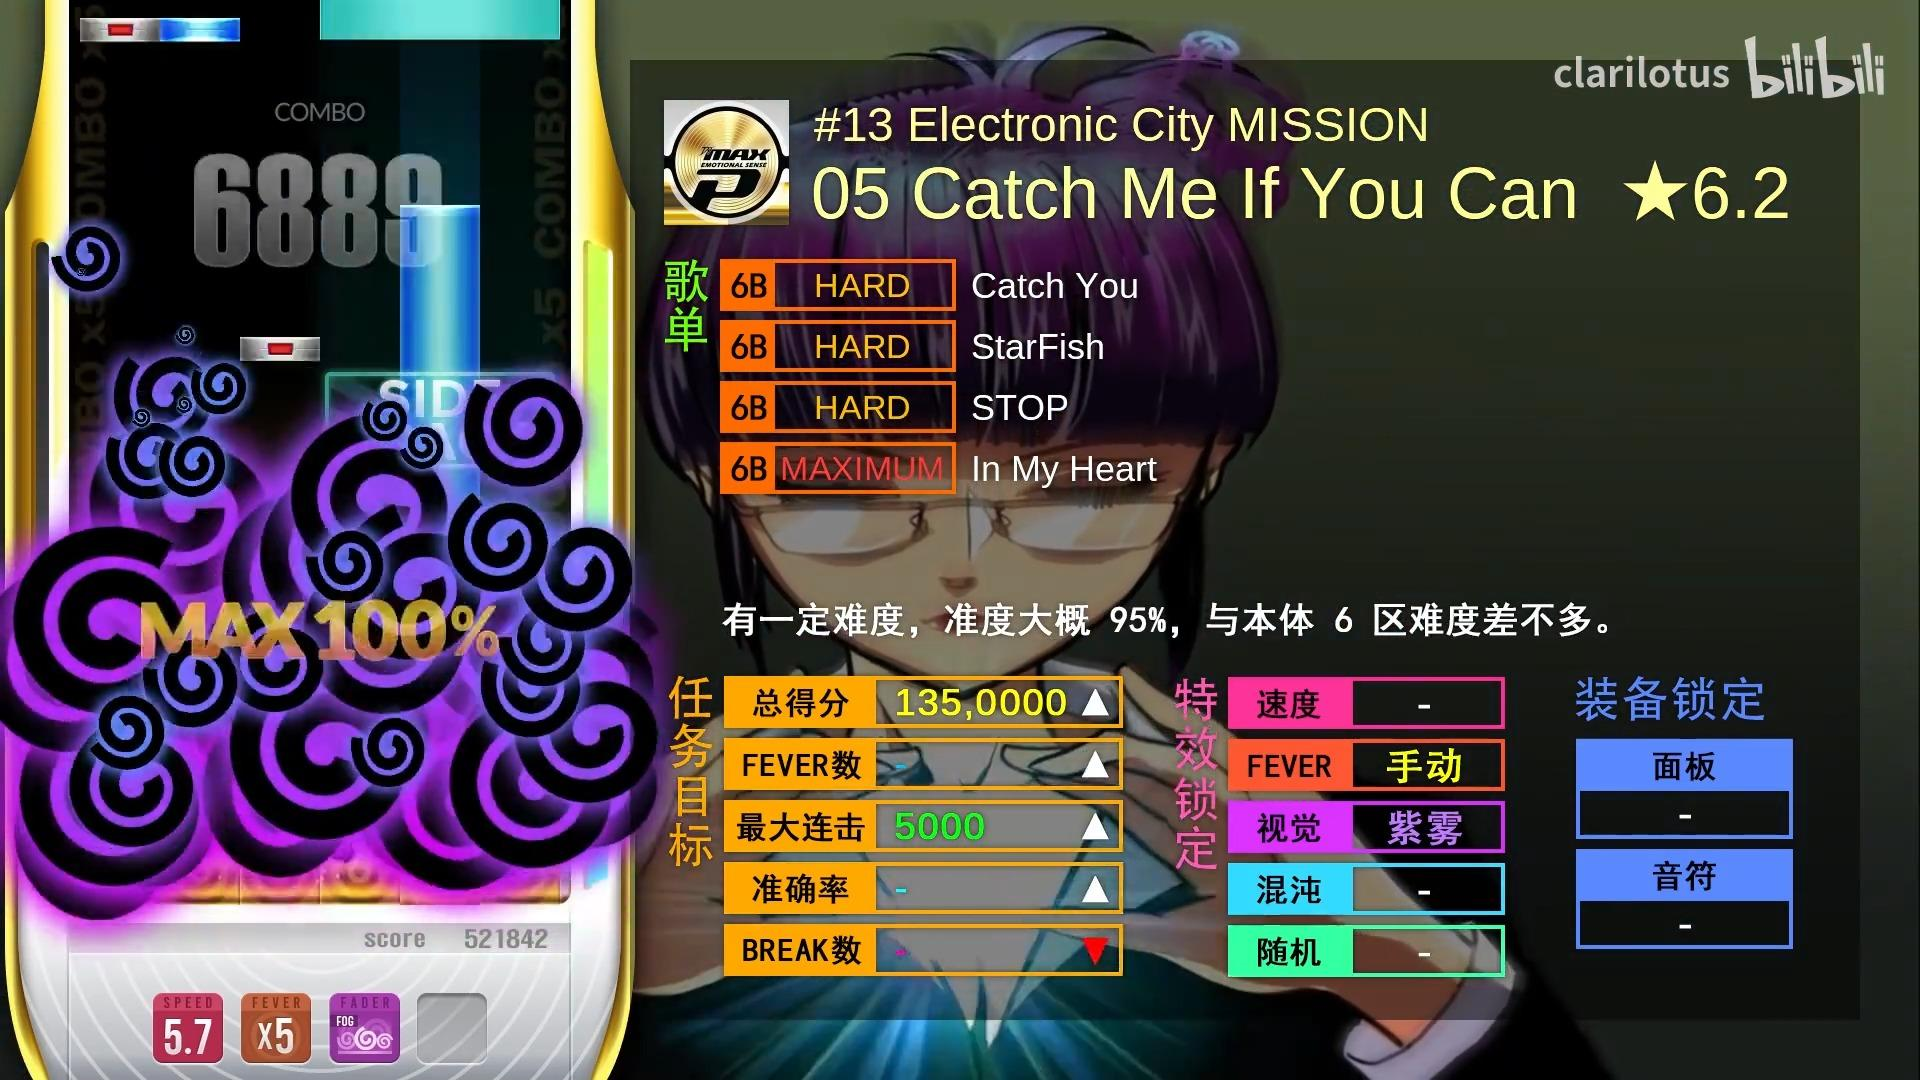hold-end: (401, 204, 481, 229)
note: (161, 17, 240, 42), (79, 17, 161, 41), (240, 338, 320, 361)
side-start: (319, 7, 559, 41)
